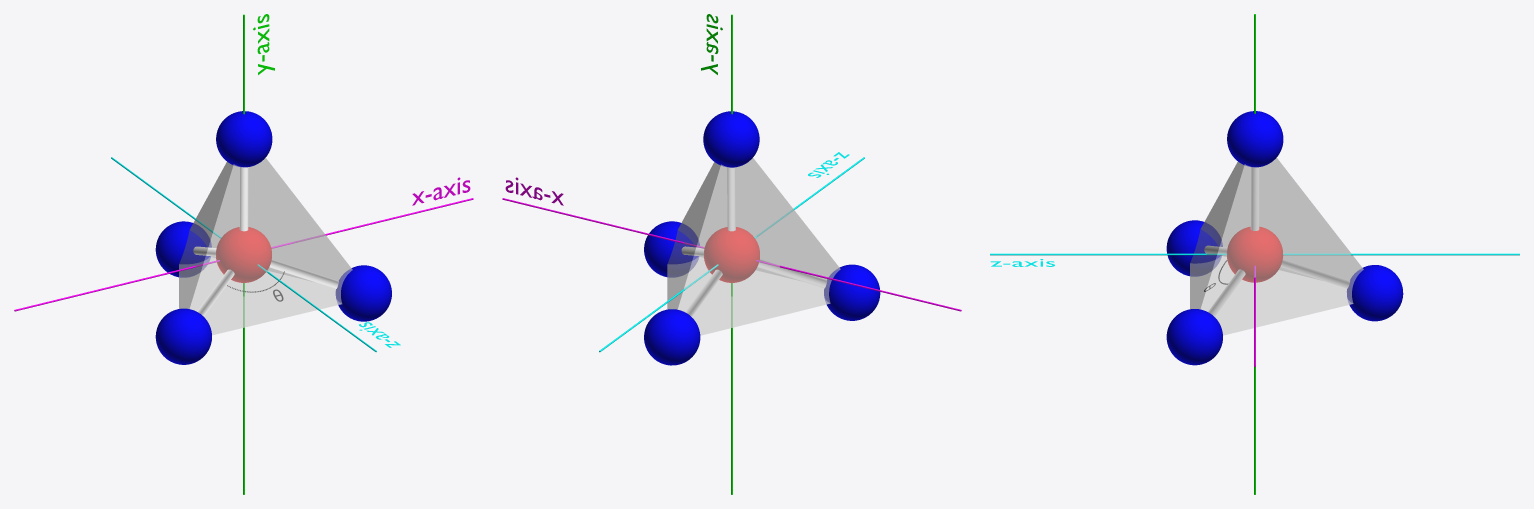
The model's file is tetrahedral_shape.glb.
The picture shows the model from 3 angles, left to right: view 1: azimuth 30°, elevation 25°; view 2: azimuth 150°, elevation 25°; view 3: azimuth 270°, elevation 25°; orthographic projection.
Parts seen in each view (by area): view 1: shape, 1tetrahedral, Cylinder.001, Cylinder.002, Cylinder; view 2: shape, 1tetrahedral, Cylinder.001, Cylinder, Cylinder.002; view 3: shape, 1tetrahedral, Cylinder.002.
Part boxes in pixels (x1,y1,x2,y2): shape: (179, 157, 352, 335); 1tetrahedral: (155, 111, 391, 364); Cylinder.001: (14, 198, 473, 311); Cylinder.002: (111, 157, 376, 352); Cylinder: (243, 14, 244, 494); shape: (667, 158, 840, 335); 1tetrahedral: (644, 111, 880, 365); Cylinder.001: (502, 198, 961, 311); Cylinder: (731, 14, 732, 494); Cylinder.002: (599, 157, 864, 352); shape: (1190, 157, 1363, 335); 1tetrahedral: (1166, 111, 1403, 365); Cylinder.002: (990, 253, 1519, 255).
Size of the model in its own units: 6 by 6 by 6.
